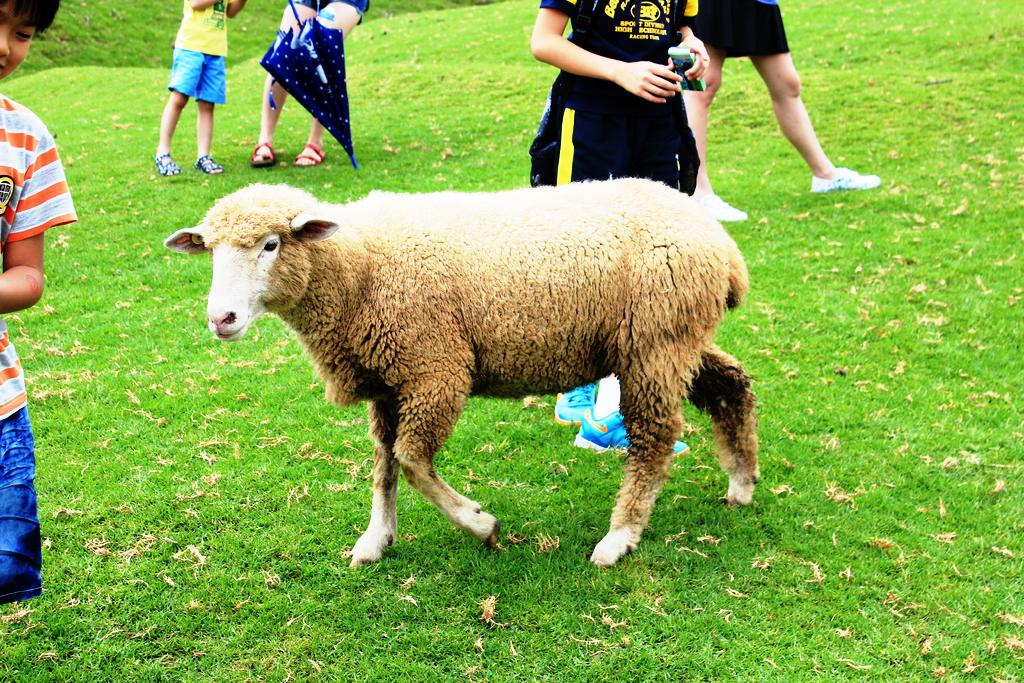Sheep: (180, 159, 768, 573)
